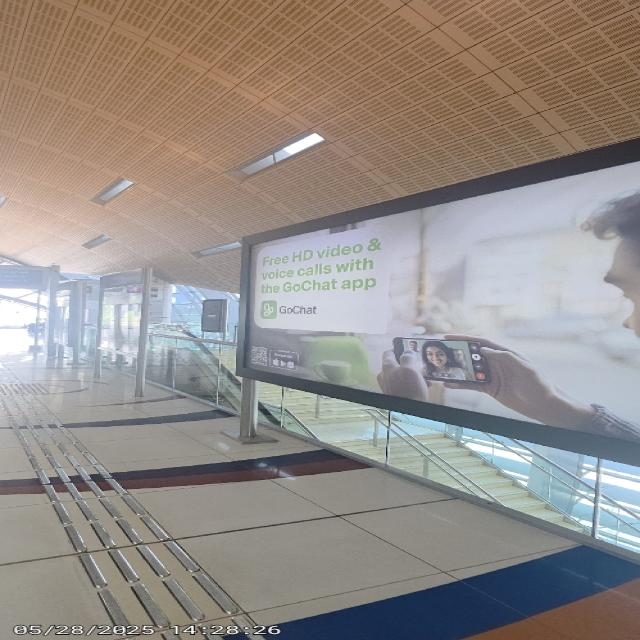digital-board-medium: (247, 143, 639, 454)
